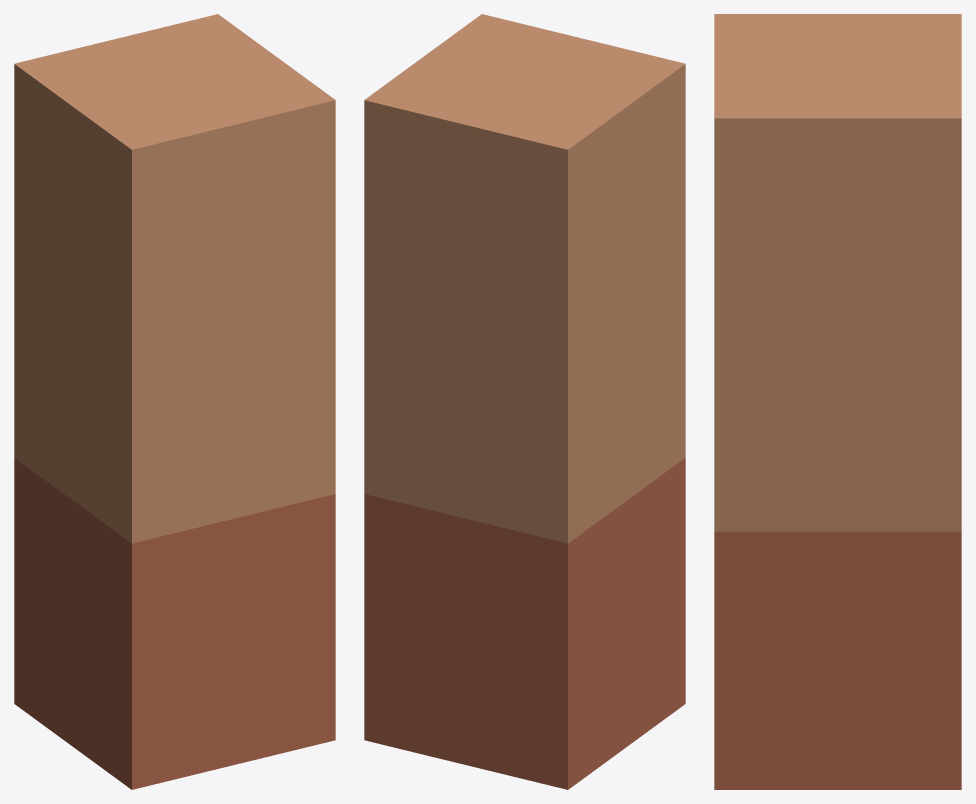
The model's file is Res01_ManageRoom_Pillar.fbx.
3 renders of one model, left to right at view 1: azimuth 30°, elevation 25°; view 2: azimuth 150°, elevation 25°; view 3: azimuth 270°, elevation 25°, orthographic. The views are drawn at different scales.
Visible parts, largest first — view 1: Res01_ManageRoom_Pillar; view 2: Res01_ManageRoom_Pillar; view 3: Res01_ManageRoom_Pillar.
Part boxes in pixels (x1,y1,x2,y2): Res01_ManageRoom_Pillar: (14,14,335,789); Res01_ManageRoom_Pillar: (364,14,685,789); Res01_ManageRoom_Pillar: (714,14,961,789).
Size of the model in its own units: 100 by 300 by 100.
